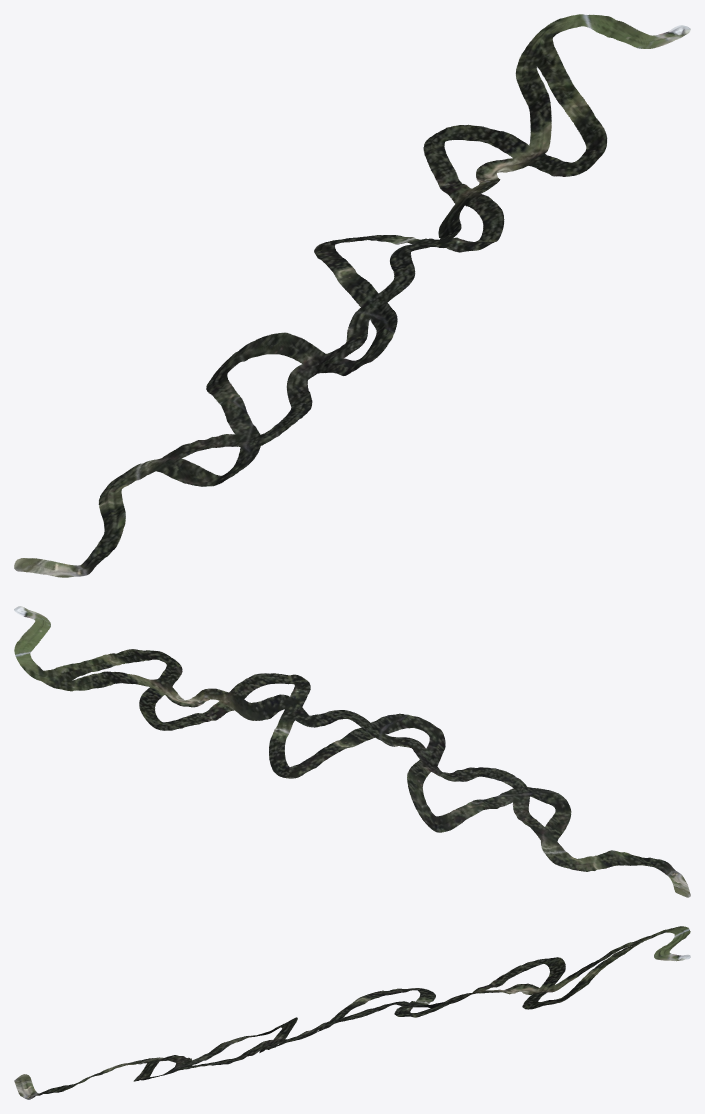
The model's file is corridor-v3-high.glb.
3 views of the same model, one above another, from view 1: azimuth 30°, elevation 25°; view 2: azimuth 150°, elevation 25°; view 3: azimuth 330°, elevation 25° (orthographic). The views are drawn at different scales.
Visible parts, largest first — view 1: V3 / ruts berms takeoffs / high; view 2: V3 / ruts berms takeoffs / high; view 3: V3 / ruts berms takeoffs / high.
Boxes of the visible parts, left/top/right/bottom form: V3 / ruts berms takeoffs / high: left=14, top=14, right=690, bottom=577; V3 / ruts berms takeoffs / high: left=14, top=606, right=690, bottom=897; V3 / ruts berms takeoffs / high: left=14, top=926, right=690, bottom=1099.
Bounding box in the file's own units: 1238 × 412 × 543.
1 material, 1 textured.
